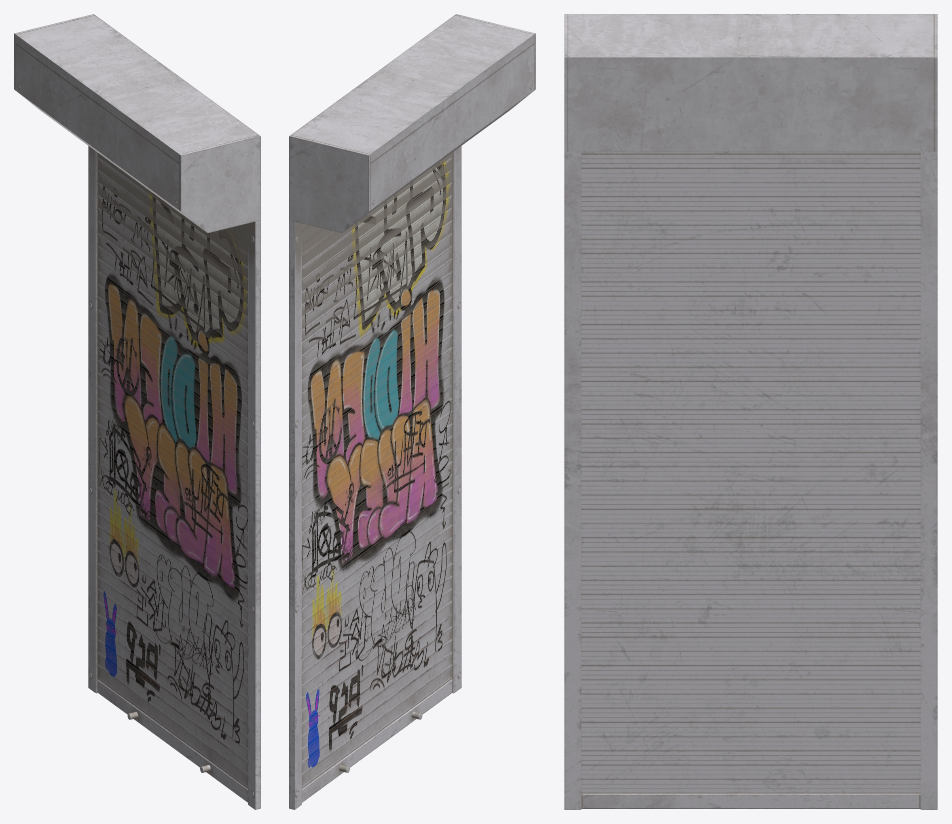
Rendered from rollershutter_door__rollershutter_door_graffiti.obj.
3 views of the same model, side by side, from view 1: azimuth 30°, elevation 25°; view 2: azimuth 150°, elevation 25°; view 3: azimuth 270°, elevation 25° (orthographic). The views are drawn at different scales.
Visible parts, largest first — view 1: rollershutter_door_graffiti; view 2: rollershutter_door_graffiti; view 3: rollershutter_door_graffiti.
Part boxes in pixels (bbox=[...]): rollershutter_door_graffiti: bbox=[14, 14, 260, 809]; rollershutter_door_graffiti: bbox=[289, 14, 535, 809]; rollershutter_door_graffiti: bbox=[564, 14, 937, 809].
Size of the model in its own units: 0.3001 by 2.4 by 1.08.
1 material, 1 textured.
